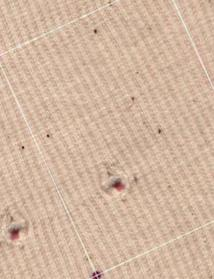hole: (98, 170, 135, 199), (6, 219, 32, 245)
stain: (37, 130, 58, 149), (88, 26, 106, 43), (151, 125, 171, 140), (125, 90, 140, 107), (87, 268, 108, 279), (19, 143, 30, 156)
